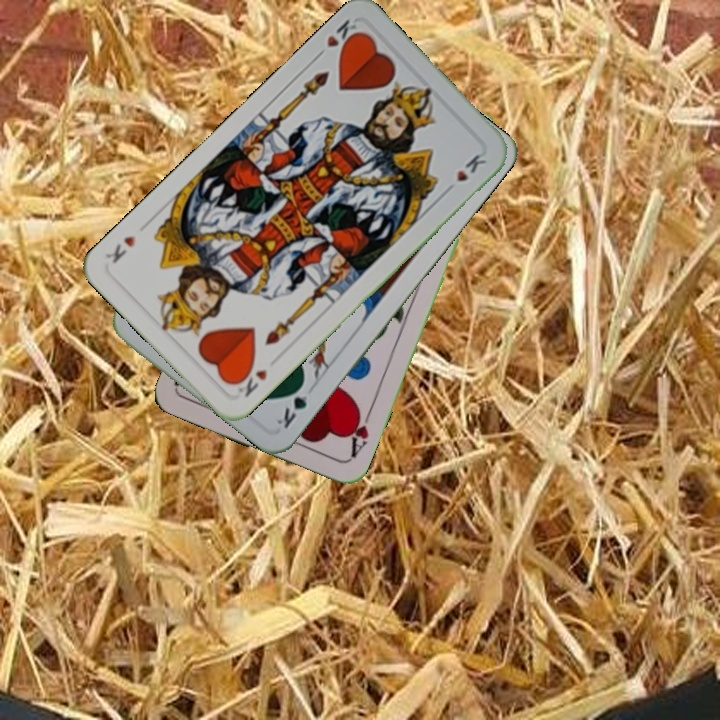GK: (272, 377, 317, 432)
HA: (343, 403, 374, 463)
HK: (311, 15, 365, 62), (233, 365, 270, 400)
